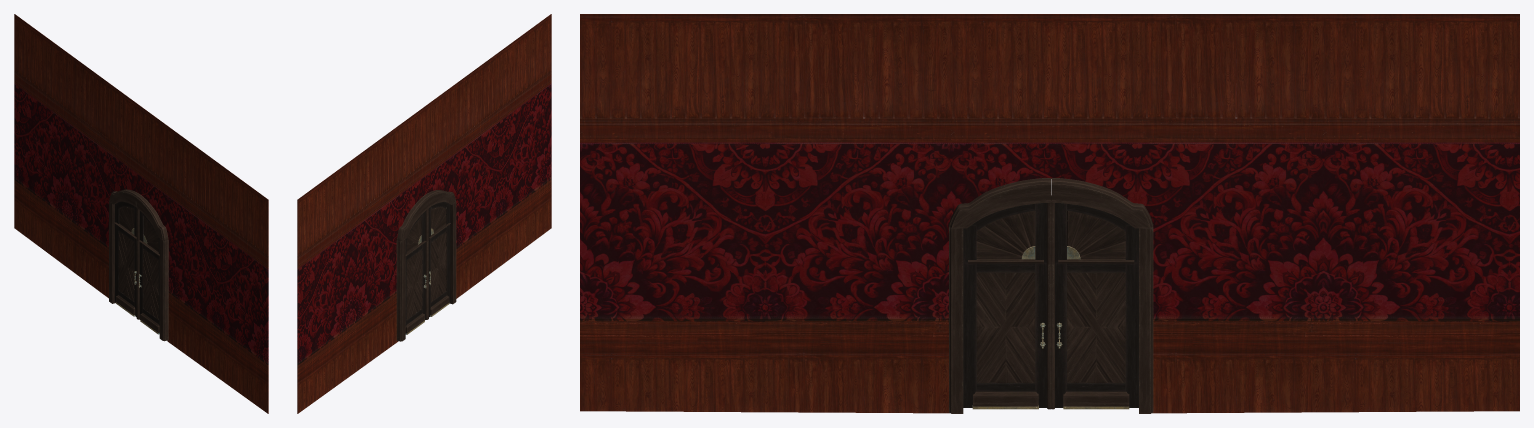
File: BigDoor.fbx
The picture shows the model from 3 angles, left to right: view 1: azimuth 30°, elevation 25°; view 2: azimuth 150°, elevation 25°; view 3: azimuth 270°, elevation 25°; orthographic projection. The views are drawn at different scales.
Parts seen in each view (by area): view 1: Cube.073, Doorstep_low.001, Doorstep_low.003, Doorstep_low.002; view 2: Cube.073, Doorstep_low.001, Doorstep_low.002, Doorstep_low.003; view 3: Cube.073, Doorstep_low.003, Doorstep_low.002, Doorstep_low.001.
Boxes of the visible parts, box(x1,y1,x2,y2) form: Cube.073: box(14, 14, 268, 413); Doorstep_low.001: box(109, 189, 168, 341); Doorstep_low.003: box(114, 201, 137, 318); Doorstep_low.002: box(137, 208, 159, 334); Cube.073: box(297, 14, 551, 413); Doorstep_low.001: box(396, 190, 456, 341); Doorstep_low.002: box(428, 202, 450, 319); Doorstep_low.003: box(405, 209, 427, 334); Cube.073: box(580, 14, 1519, 413); Doorstep_low.003: box(1051, 195, 1138, 409); Doorstep_low.002: box(963, 196, 1051, 409); Doorstep_low.001: box(949, 178, 1153, 413).
Size of the model in its own units: 27.92 by 575 by 1227.
